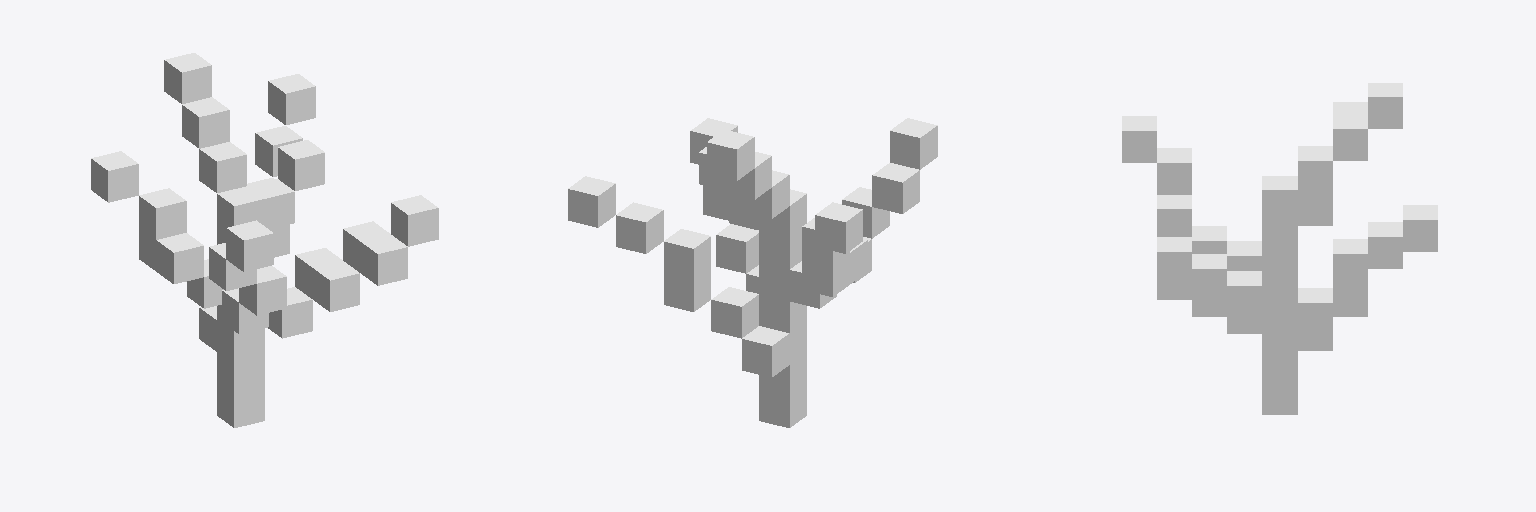
File: Rotting_tree.obj
3 views of the same model, side by side, from view 1: azimuth 30°, elevation 25°; view 2: azimuth 150°, elevation 25°; view 3: azimuth 270°, elevation 25° (orthographic).
Visible parts, largest first — view 1: Rotting_tree; view 2: Rotting_tree; view 3: Rotting_tree.
Part boxes in pixels (x1,y1,x2,y2): Rotting_tree: (91, 53, 438, 427); Rotting_tree: (568, 118, 937, 427); Rotting_tree: (1122, 83, 1437, 414).
Size of the model in its own units: 8 by 10 by 9.